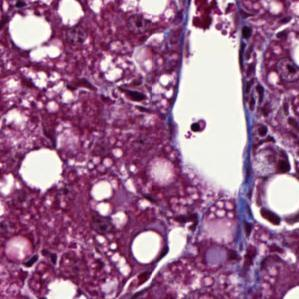inflammation: (22, 246, 60, 272), (268, 147, 298, 176)
